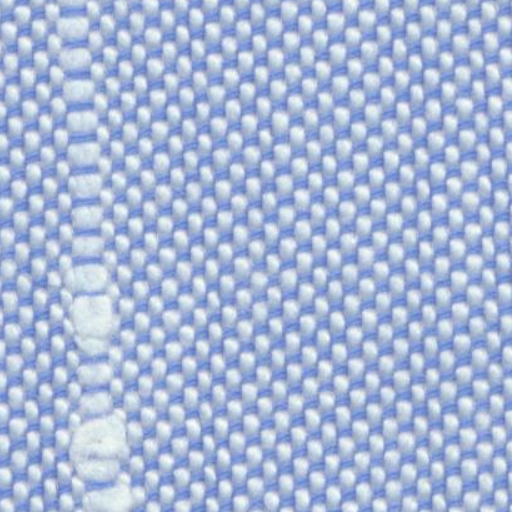MianQiu: (58, 410, 144, 506), (62, 292, 126, 350)
